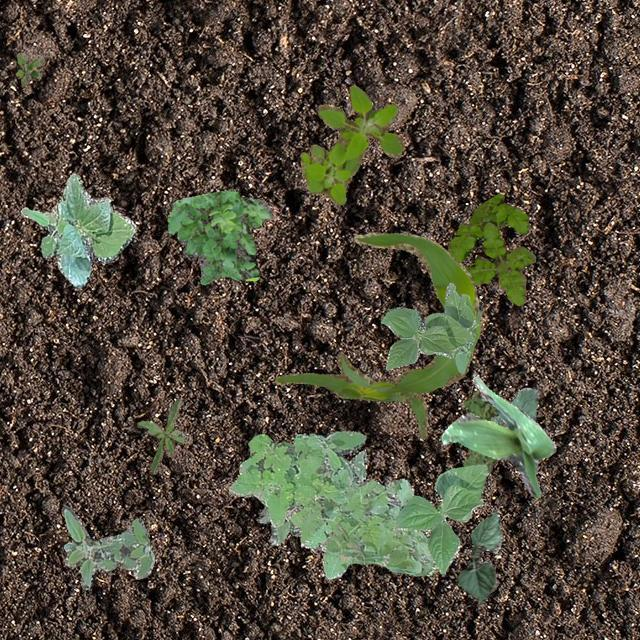crop: (274, 232, 480, 438), (440, 372, 554, 496), (20, 172, 134, 286), (392, 462, 488, 574), (380, 282, 480, 372), (456, 508, 501, 600), (488, 386, 538, 426)
weed: (228, 432, 438, 578), (298, 84, 404, 204), (256, 430, 366, 544), (166, 188, 272, 284), (446, 192, 534, 304), (60, 504, 154, 588), (136, 398, 182, 472), (462, 390, 498, 472), (14, 52, 44, 84), (283, 504, 297, 522)
